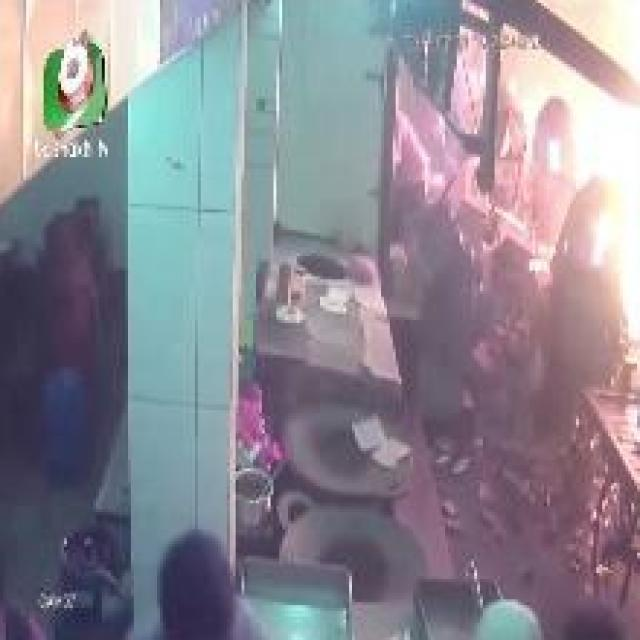smoke: (506, 0, 640, 355)
